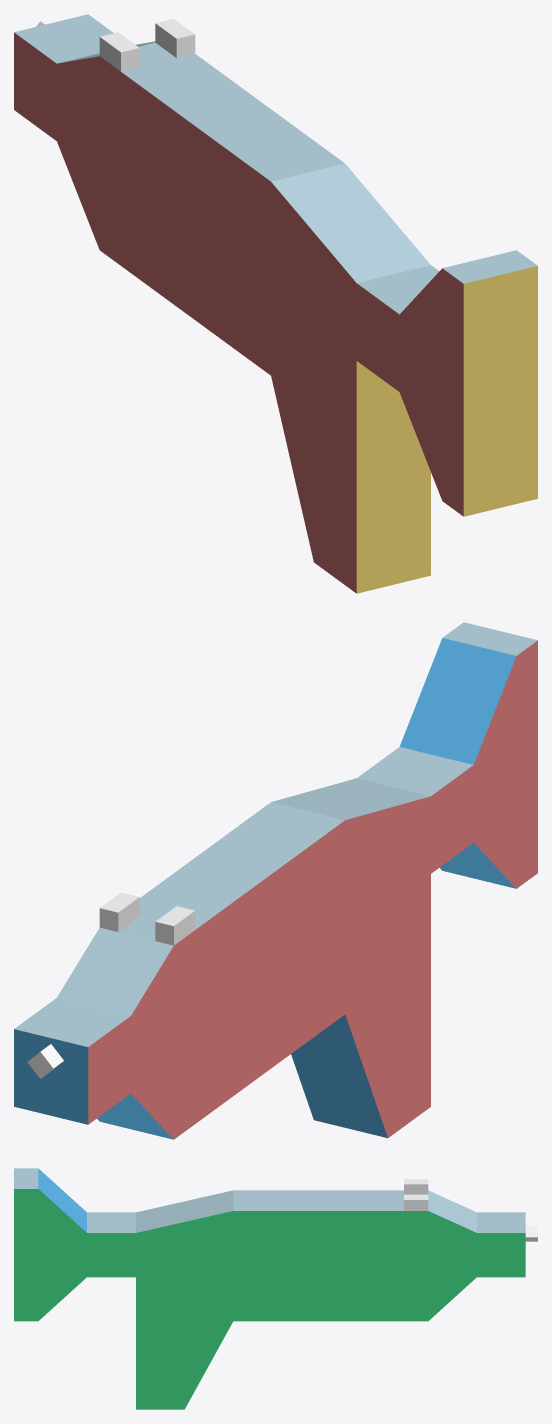
Rendered from rifle.gltf.
3 views of the same model, one above another, from view 1: azimuth 30°, elevation 25°; view 2: azimuth 150°, elevation 25°; view 3: azimuth 270°, elevation 25° (orthographic). The views are drawn at different scales.
Visible parts, largest first — view 1: gun, aim_pip (×2); view 2: gun, aim_pip (×2), muzzle; view 3: gun, aim_pip (×2).
Boxes of the visible parts, x1,y1,x2,y2 form: gun: [14, 14, 537, 593]; aim_pip (×2): [99, 18, 195, 71]; gun: [14, 622, 537, 1139]; aim_pip (×2): [99, 892, 195, 945]; muzzle: [27, 1044, 63, 1078]; gun: [14, 1168, 525, 1409]; aim_pip (×2): [404, 1179, 428, 1210].
Size of the model in its own units: 0.0312 by 0.1562 by 0.3359.
2 materials, 1 textured.
